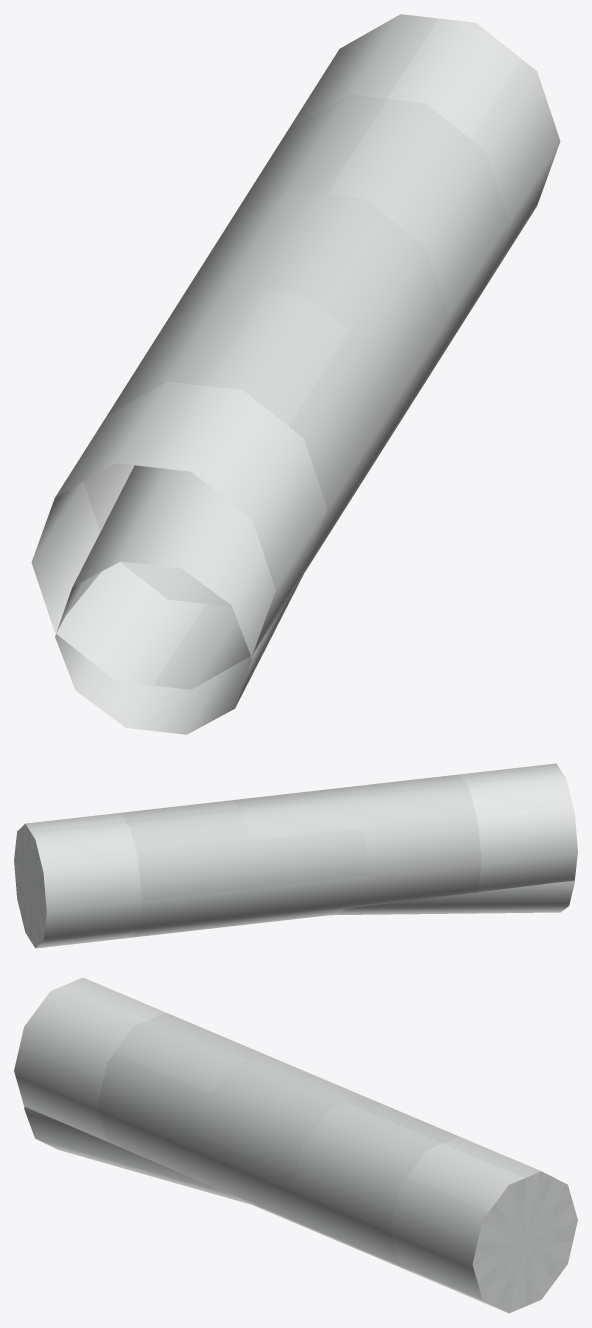
Rendered from trusssignalarm_diagonal8_c12.obj.
The picture shows the model from 3 angles, top to bottom: view 1: azimuth 30°, elevation 25°; view 2: azimuth 150°, elevation 25°; view 3: azimuth 270°, elevation 25°; orthographic projection. The views are drawn at different scales.
Visible parts, largest first — view 1: trusssignalarm_diagonal8_c12; view 2: trusssignalarm_diagonal8_c12; view 3: trusssignalarm_diagonal8_c12.
Part boxes in pixels (x1,y1,x2,y2): trusssignalarm_diagonal8_c12: (31, 14, 560, 734); trusssignalarm_diagonal8_c12: (14, 763, 577, 948); trusssignalarm_diagonal8_c12: (14, 977, 577, 1313).
Bounding box in the file's own units: 1.23 × 0.3802 × 1.23.
